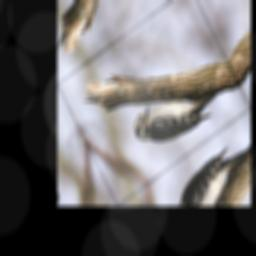Woodpecker: (122, 62, 228, 169)
